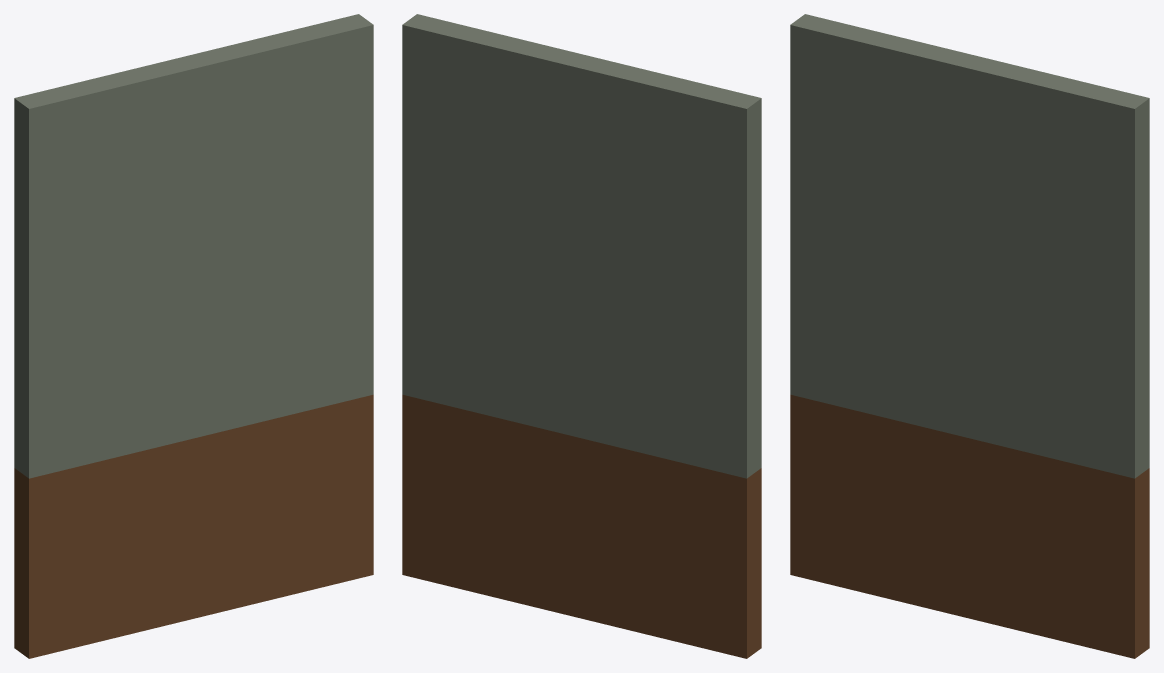
File: Building_20.fbx
The picture shows the model from 3 angles, left to right: view 1: azimuth 30°, elevation 25°; view 2: azimuth 150°, elevation 25°; view 3: azimuth 330°, elevation 25°; orthographic projection.
Visible parts, largest first — view 1: Building_20; view 2: Building_20; view 3: Building_20.
Part boxes in pixels (box(x1,y1,x2,y2)): Building_20: box(14, 14, 373, 658); Building_20: box(402, 14, 761, 658); Building_20: box(790, 14, 1149, 658).
Size of the model in its own units: 162 by 247 by 12.15.
Materials: 1 (1 with a texture image).
